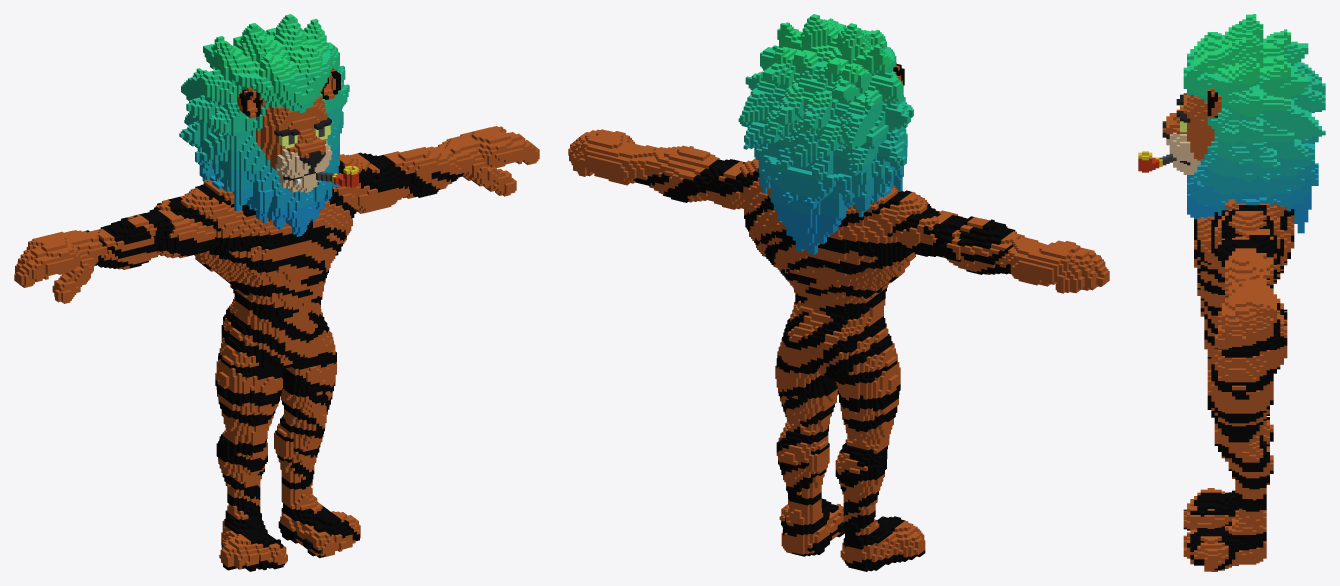
Rendered from 836-B9EIFfYr.glb.
3 renders of one model, left to right at view 1: azimuth 30°, elevation 25°; view 2: azimuth 150°, elevation 25°; view 3: azimuth 270°, elevation 25°, orthographic. The views are drawn at different scales.
Visible parts, largest first — view 1: pipe; view 2: pipe; view 3: pipe.
Boxes of the visible parts, <box> form: pipe: <box>14,14,539,571</box>; pipe: <box>568,14,1109,571</box>; pipe: <box>1138,14,1325,571</box>.
Size of the model in its own units: 17.2 by 16.5 by 5.4.
4 materials, 4 textured.
